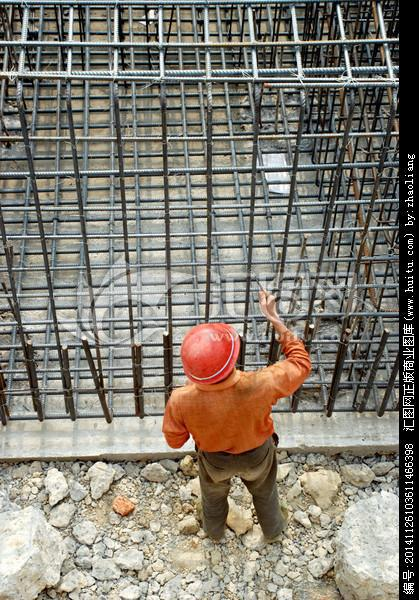helmet: (174, 319, 244, 385)
